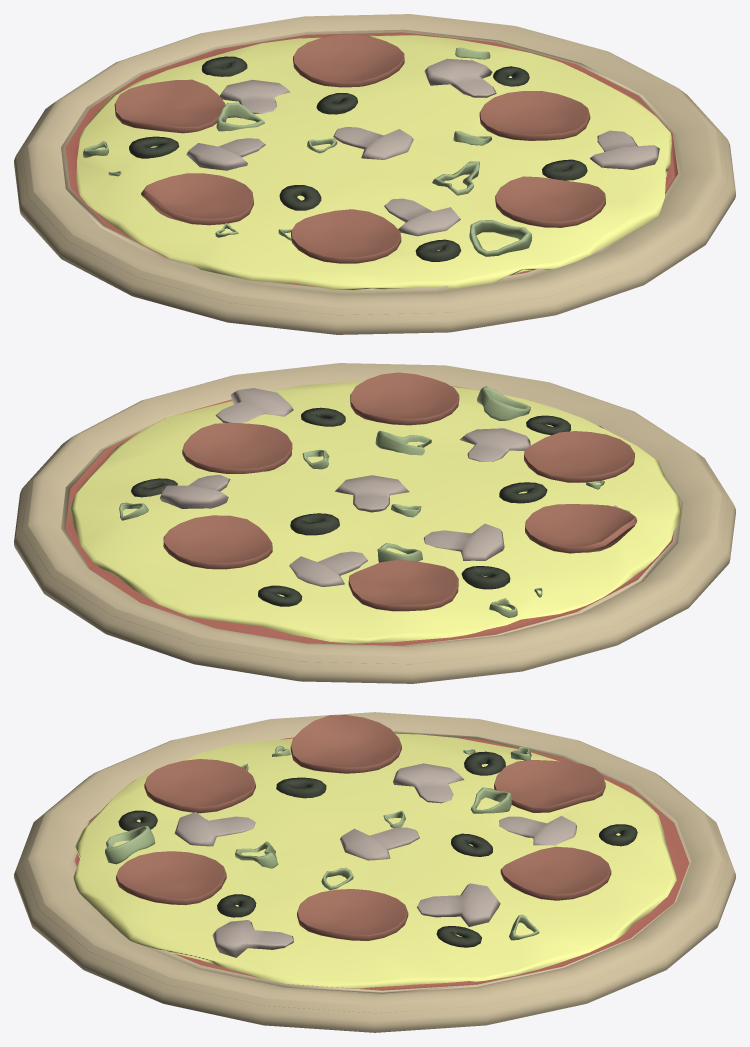
Rendered from thin_mushroom_sausage.gltf.
3 renders of one model, top to bottom at view 1: azimuth 30°, elevation 25°; view 2: azimuth 150°, elevation 25°; view 3: azimuth 270°, elevation 25°, orthographic.
Visible parts, largest first — view 1: cheese, thin, polySurface143, polySurface147, polySurface145, polySurface146, polySurface142, polySurface144, polySurface128, polySurface162, polySurface129, polySurface163 (+12 smaller); view 2: cheese, thin, polySurface147, polySurface142, polySurface145, polySurface144, polySurface143, polySurface146, polySurface130, polySurface162, polySurface161, polySurface128 (+12 smaller); view 3: cheese, thin, polySurface146, polySurface144, polySurface143, polySurface142, polySurface145, polySurface147, polySurface128, polySurface162, polySurface130, polySurface163 (+12 smaller).
Boxes of the visible parts, x1,y1,x2,y2 form: cheese: (76,35,671,290); thin: (14,14,735,334); polySurface143: (291,209,401,263); polySurface147: (293,34,404,87); polySurface145: (114,79,225,133); polySurface146: (141,173,253,225); polySurface142: (479,91,590,140); polySurface144: (495,176,605,227); polySurface128: (424,58,496,97); polySurface162: (590,130,659,169); polySurface129: (384,198,460,236); polySurface163: (333,127,413,159); cheese: (69,382,681,643); thin: (14,363,735,683); polySurface147: (163,515,272,569); polySurface142: (182,422,292,473); polySurface145: (348,559,458,611); polySurface144: (350,372,459,425); polySurface143: (524,431,634,482); polySurface146: (525,504,636,553); polySurface130: (423,523,504,560); polySurface162: (215,388,293,423); polySurface161: (289,551,367,586); polySurface128: (159,474,230,508); cheese: (73,733,676,988); thin: (14,712,735,1032); polySurface146: (290,715,401,773); polySurface144: (116,851,226,905); polySurface143: (144,759,255,813); polySurface142: (297,889,408,940); polySurface145: (494,760,605,812); polySurface147: (500,846,611,900); polySurface128: (416,883,500,926); polySurface162: (212,920,293,957); polySurface130: (393,763,464,803); polySurface163: (340,827,419,860).
Size of the model in its own units: 0.0974 by 0.0078 by 0.0974.
